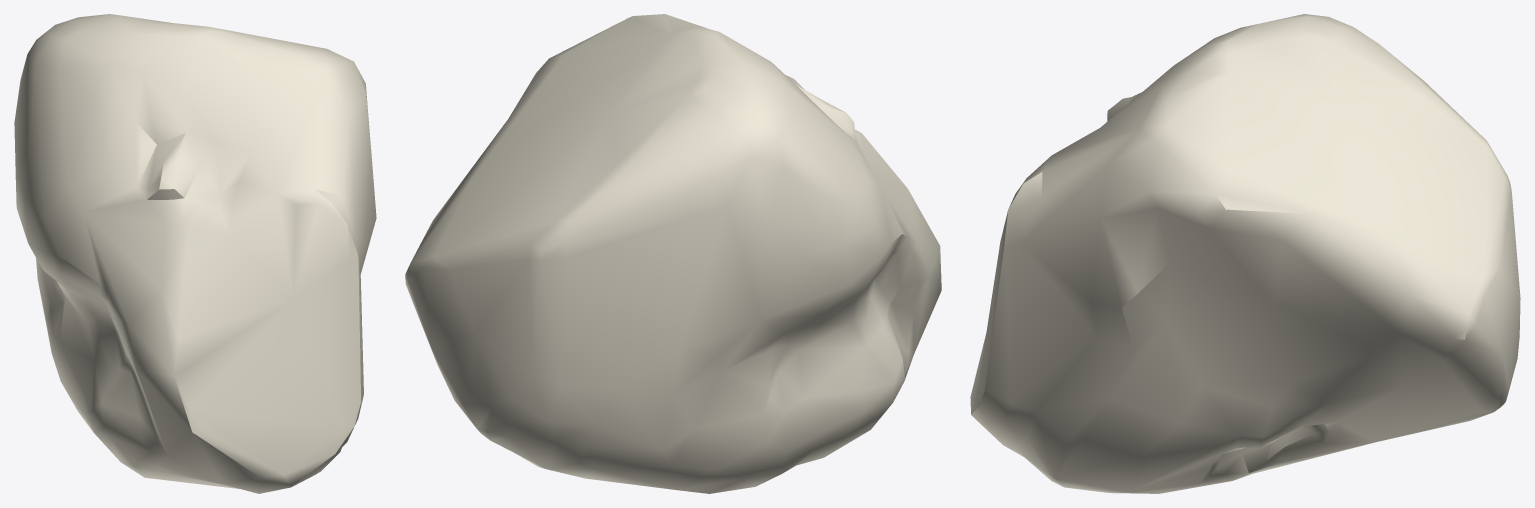
File: fma24440.glb
The picture shows the model from 3 angles, left to right: view 1: azimuth 30°, elevation 25°; view 2: azimuth 150°, elevation 25°; view 3: azimuth 270°, elevation 25°; orthographic projection. The views are drawn at different scales.
Visible parts, largest first — view 1: FMA24440; view 2: FMA24440; view 3: FMA24440.
Part boxes in pixels (x1,y1,x2,y2): FMA24440: [14, 14, 376, 493]; FMA24440: [405, 14, 941, 493]; FMA24440: [970, 14, 1520, 493].
Bounding box in the file's own units: 0.0113 × 0.0139 × 0.0155.
